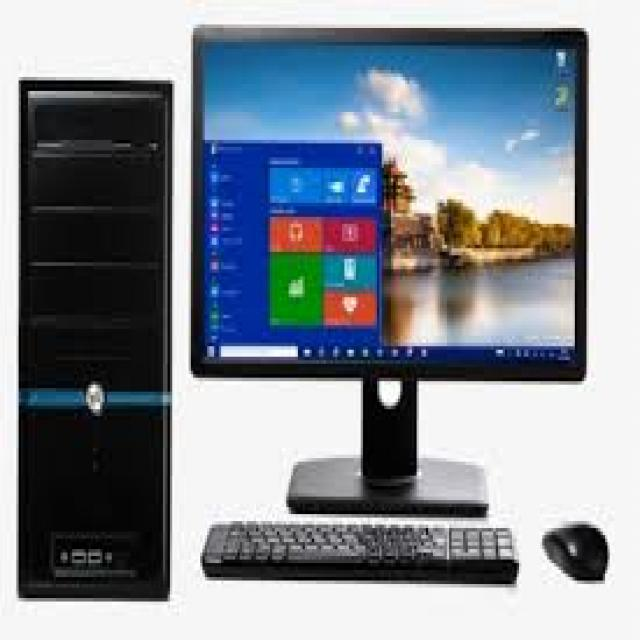Computer: (10, 68, 177, 597)
Monitor: (181, 10, 596, 413)
